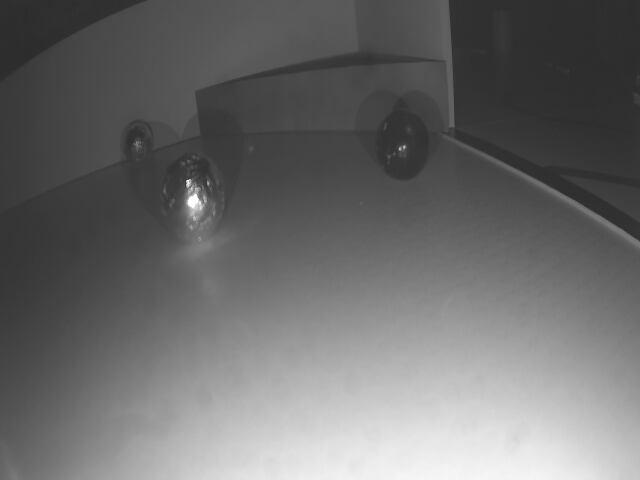Dead: (376, 114, 431, 180)
Green: (194, 61, 446, 142)
Live: (160, 155, 225, 246), (121, 123, 155, 164)
